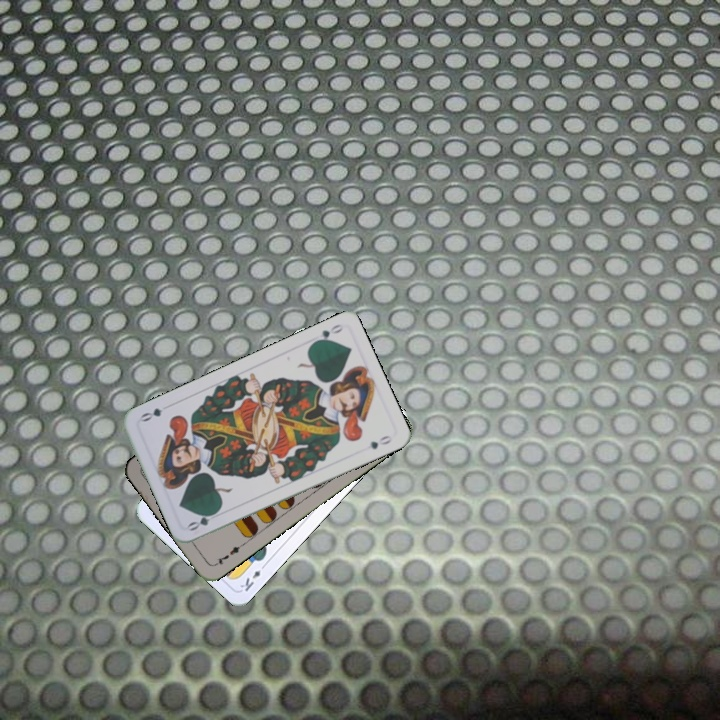E7: (210, 540, 246, 568)
EK: (236, 559, 269, 594)
GO: (184, 506, 223, 534), (308, 320, 345, 347)
